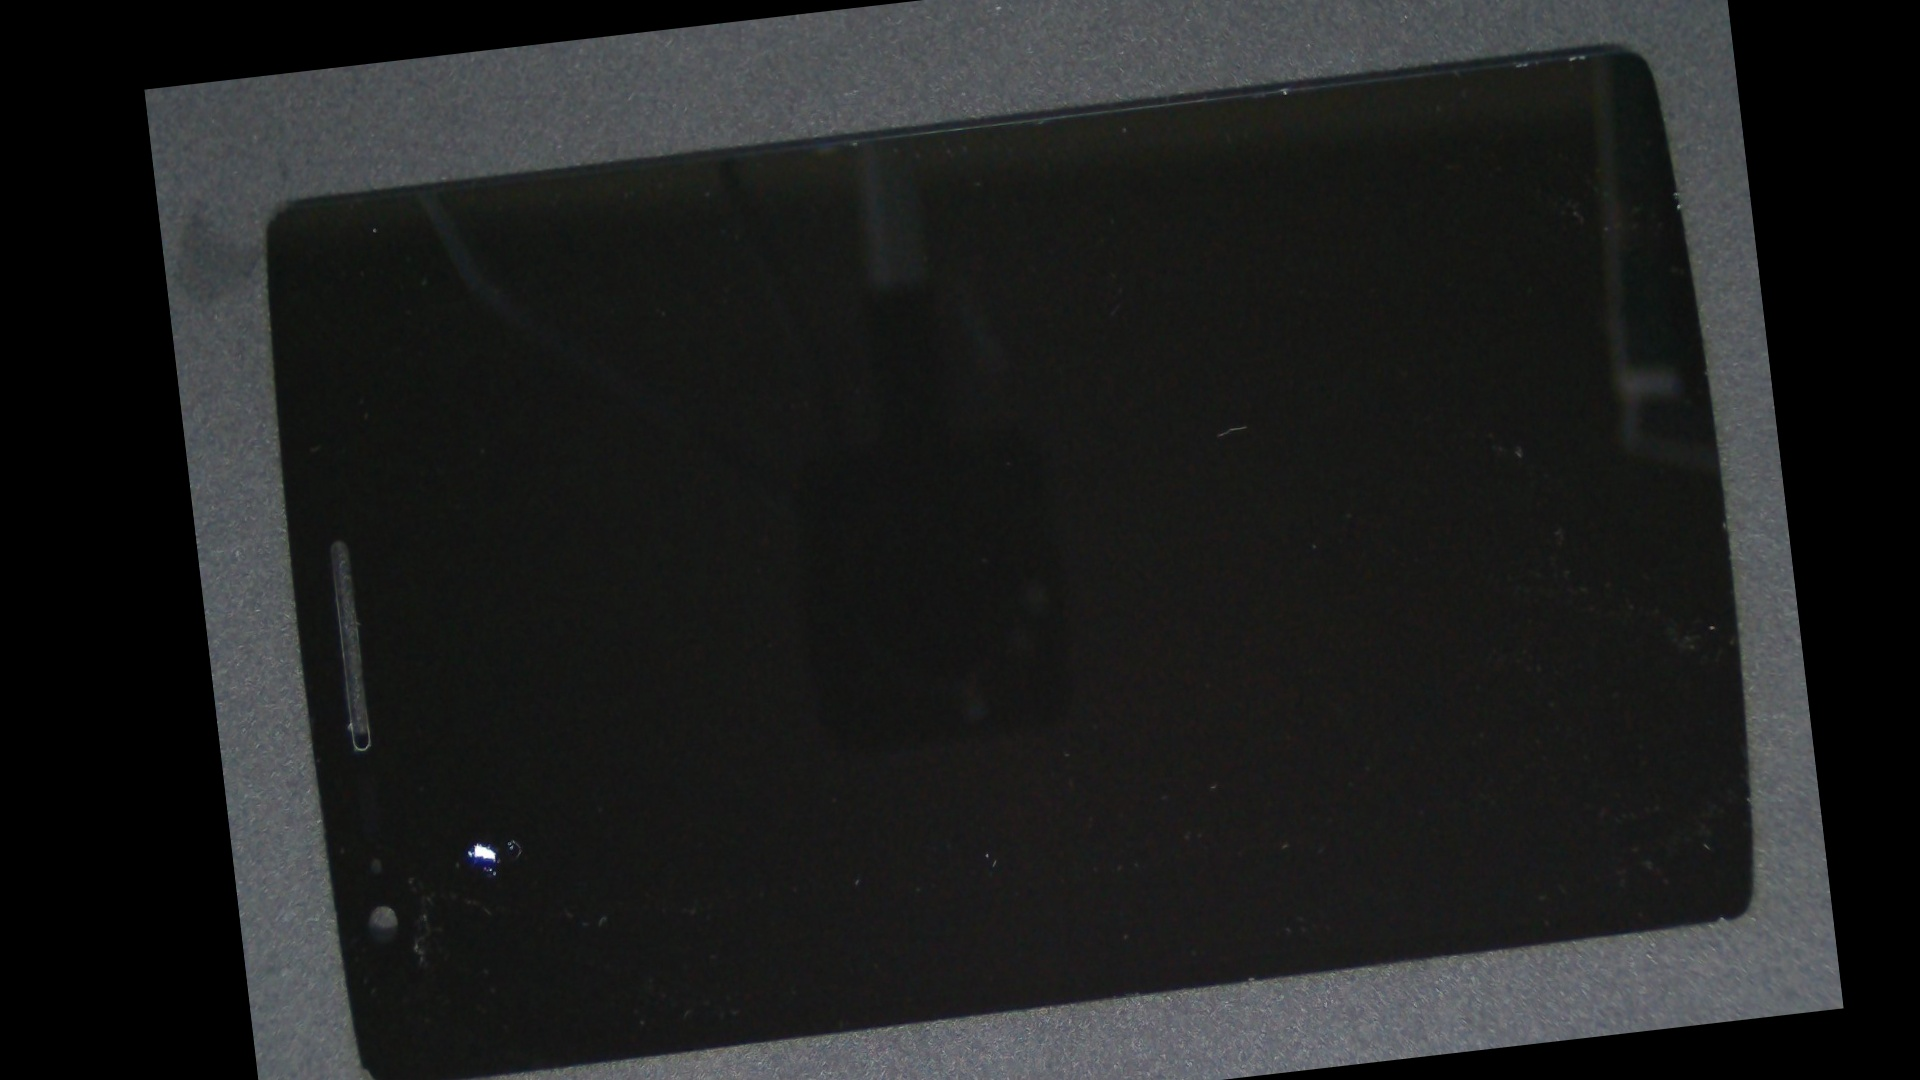oil: (310, 438, 633, 1080)
